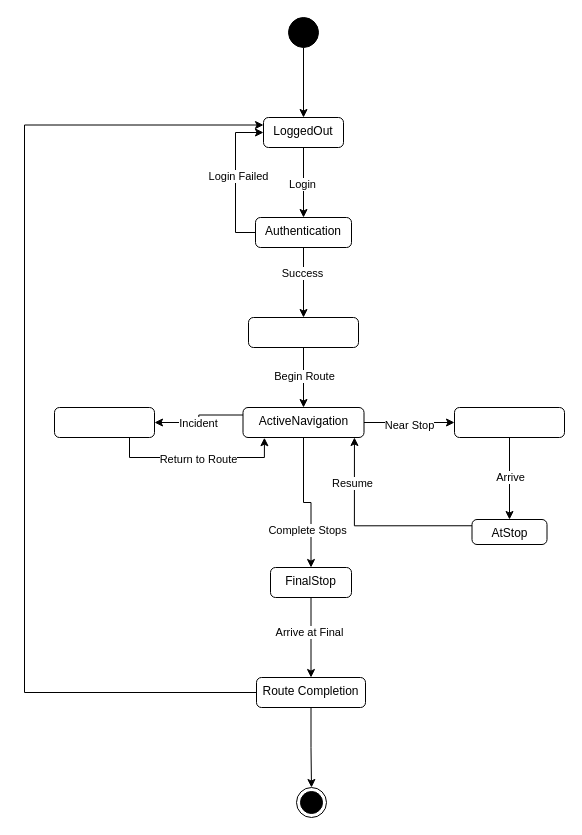
The diagram is 582 pixels wide and 835 high, and some of its shapes have lost their labels. Here are the shapes that lost their labels. From the top down, the centre of each, then its label:
At [303,332]: "RoutePreparation".
At [104,422]: "RouteDeviation".
At [509,422]: "StopApproaching".
